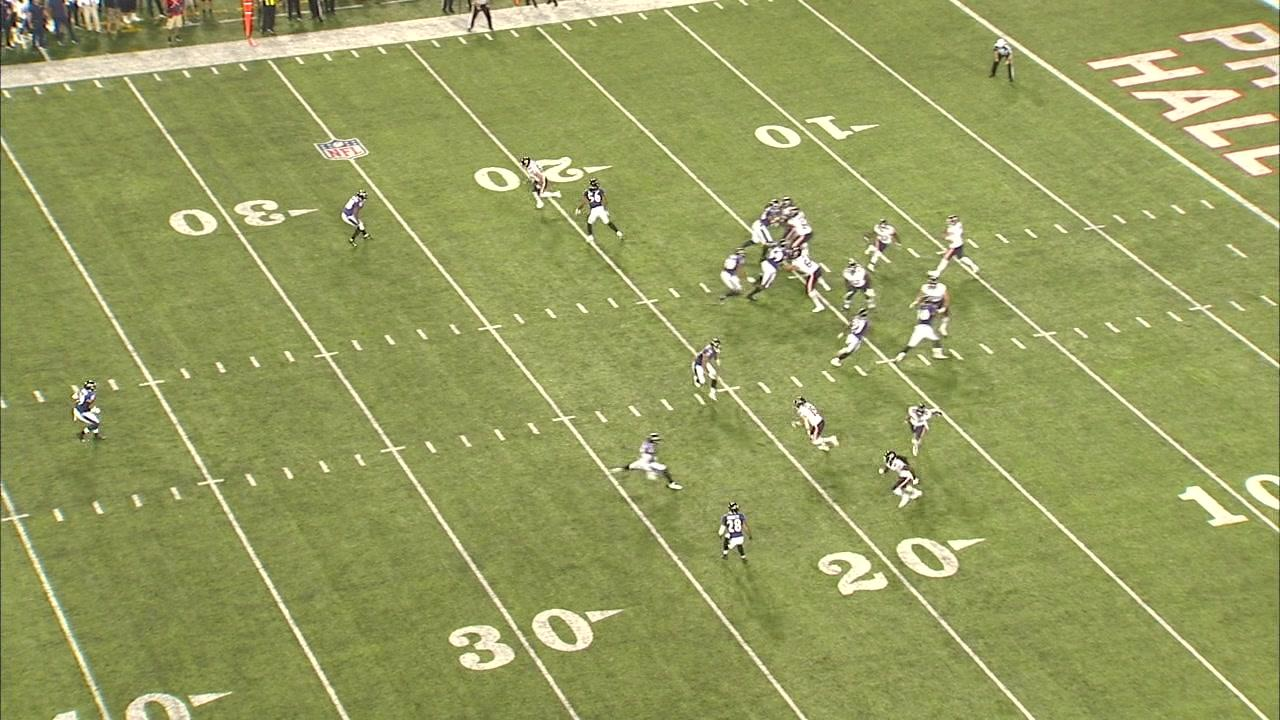marker: (236, 0, 260, 50)
number: (445, 608, 595, 673), (812, 536, 961, 598), (160, 197, 287, 238), (471, 155, 583, 197), (751, 114, 853, 149)
